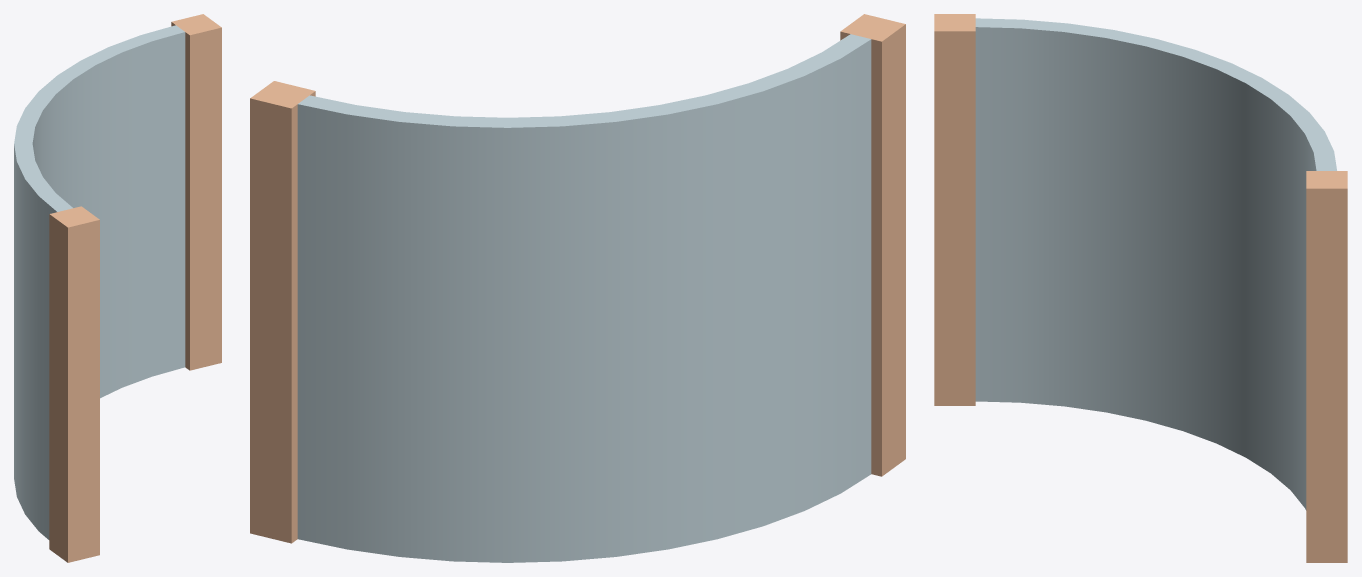
File: wallCurved.glb
3 views of the same model, side by side, from view 1: azimuth 30°, elevation 25°; view 2: azimuth 150°, elevation 25°; view 3: azimuth 270°, elevation 25° (orthographic). The views are drawn at different scales.
Parts seen in each view (by area): view 1: wallCurved; view 2: wallCurved; view 3: wallCurved.
Part boxes in pixels (<box>): wallCurved: <box>14,14,221,562</box>; wallCurved: <box>250,14,905,562</box>; wallCurved: <box>934,14,1347,562</box>.
Size of the model in its own units: 1 by 1 by 1.
